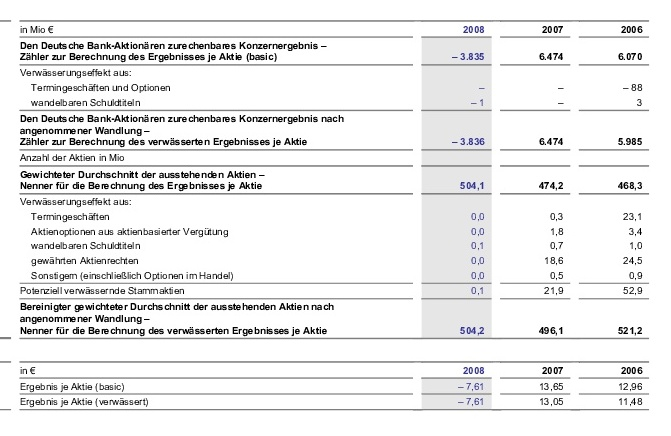table: (0, 0, 671, 436)
